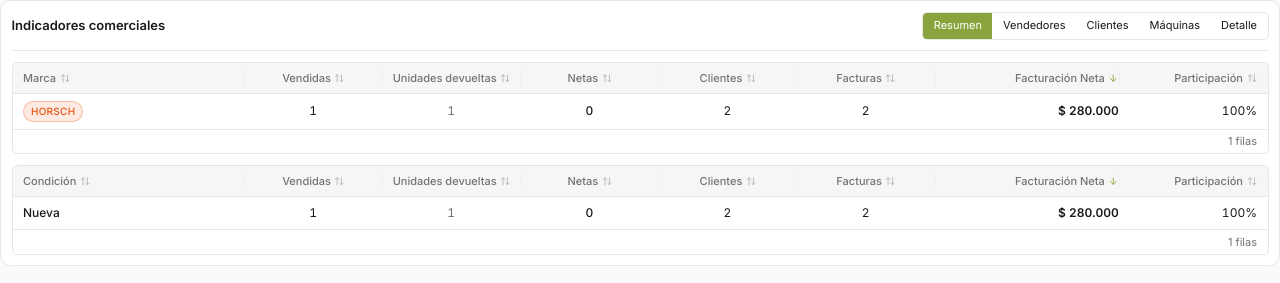
Test: Ventas de Máquinas › uses the same Oscar identity in the seller summary and invoice detail
Click the button "Vendedores" at (1034, 26), box [992,12,1076,38]
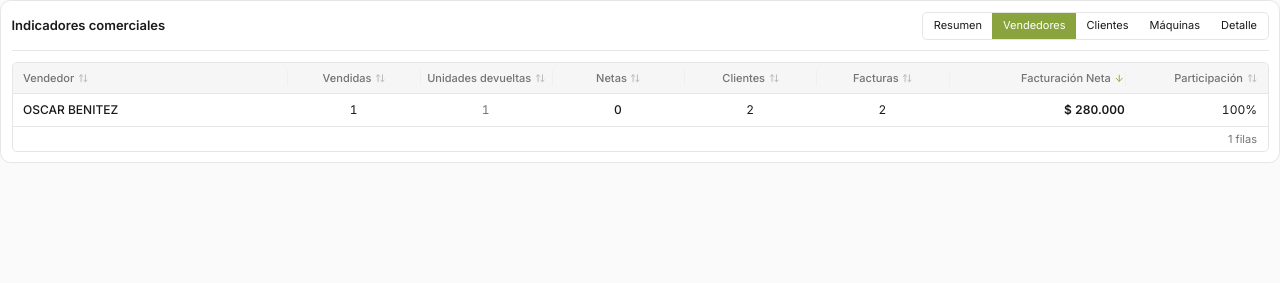
Expected: the text "$ 280.000" is shown, [1064,102,1125,117]
Result: the text "OSCAR BENITEZ" is shown once at [23,102,118,117]
Click the button "Detalle" at (1239, 26), box [1211,12,1268,38]
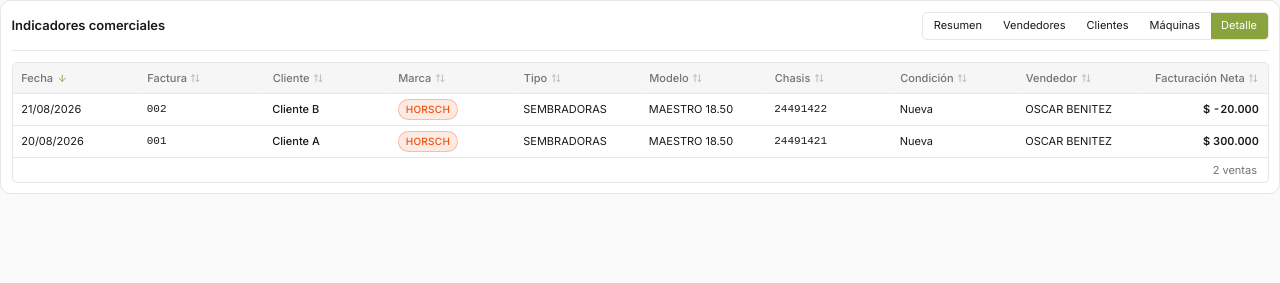
Result: the text "OSCAR BENITEZ" is shown 2 times at [1016,94,1142,126]; [1016,126,1142,157]
